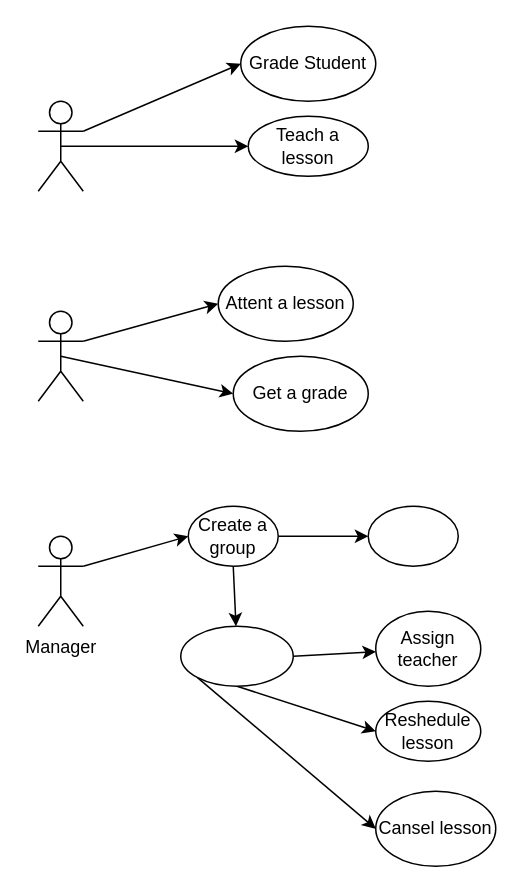
The diagram is 522 pixels wide and 893 high, and some of its shapes have lost their labels. The shapes that lost their labels are listed below. From the top down, each one's box as (x1, y1, x2, y2) in pixels, then its label:
(37, 100, 83, 191): Teacher
(37, 310, 83, 401): Student
(367, 505, 458, 566): Enroll student
(179, 625, 293, 686): Create lesson
